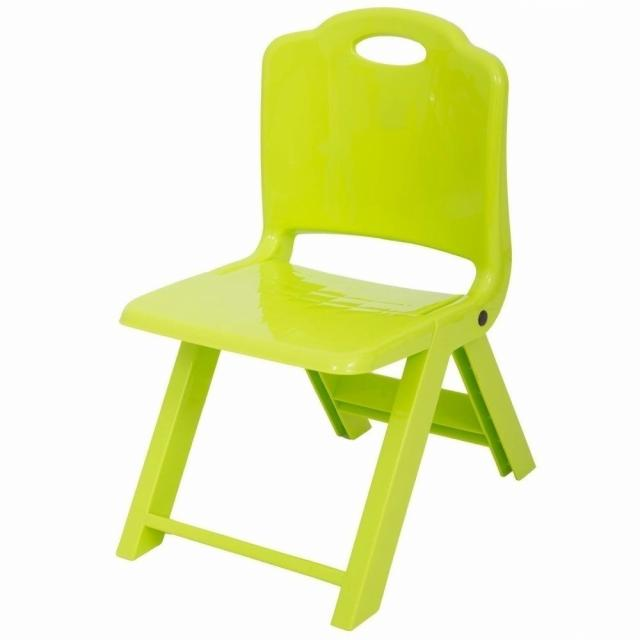Chair: (112, 4, 540, 634)
